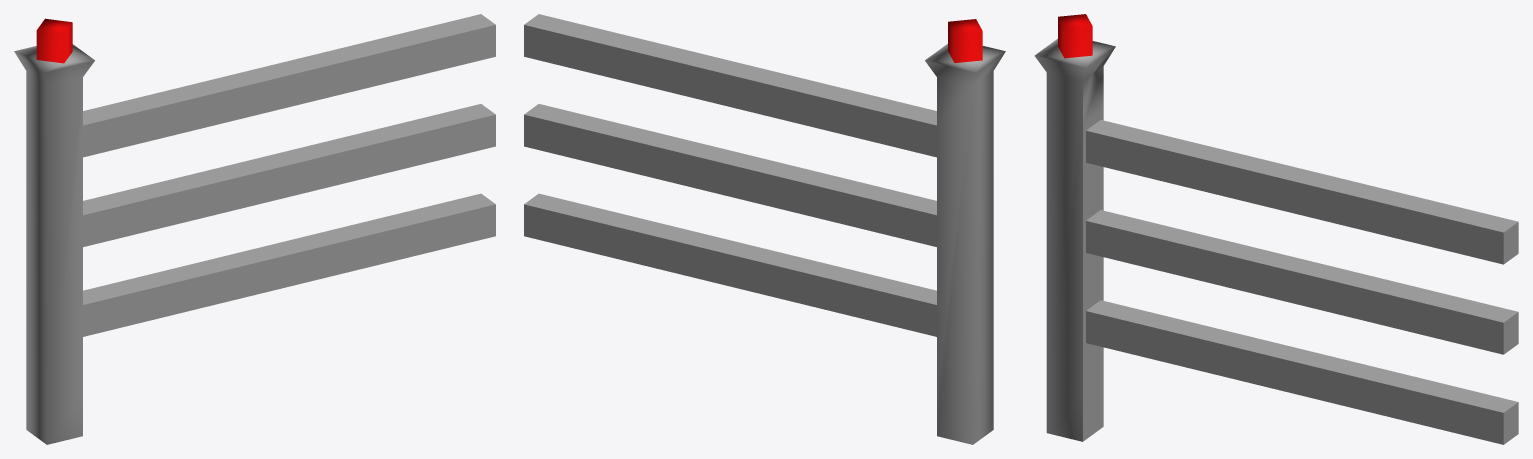
File: Fence.fbx
3 views of the same model, side by side, from view 1: azimuth 30°, elevation 25°; view 2: azimuth 150°, elevation 25°; view 3: azimuth 330°, elevation 25° (orthographic).
Parts seen in each view (by area): view 1: pCube1; view 2: pCube1; view 3: pCube1.
Boxes of the visible parts, x1,y1,x2,y2 form: pCube1: [14, 14, 495, 444]; pCube1: [524, 14, 1005, 444]; pCube1: [1034, 14, 1518, 444].
Bounding box in the file's own units: 12.75 × 10.78 × 1.43.
